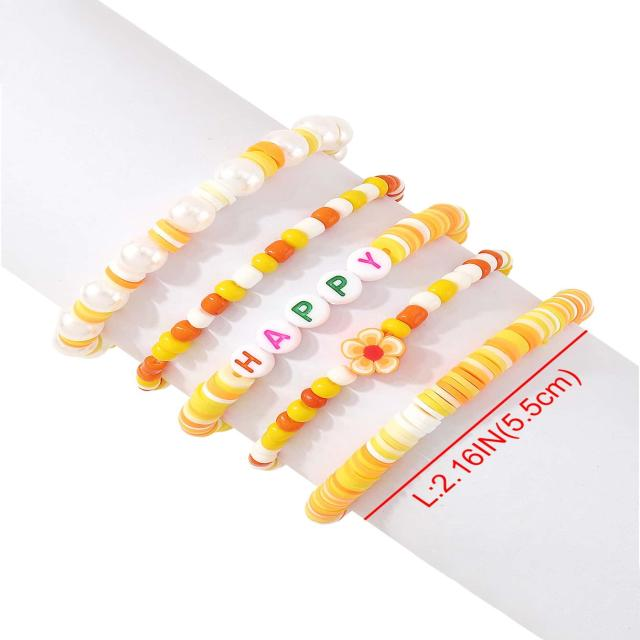bracelet: (22, 61, 604, 543)
